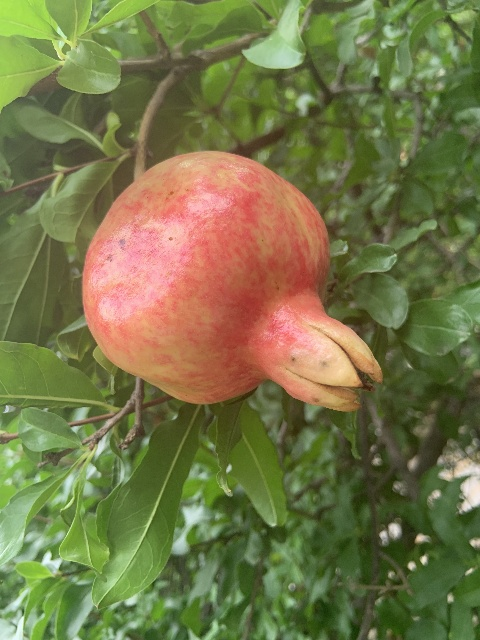ripe: (82, 150, 383, 412)
